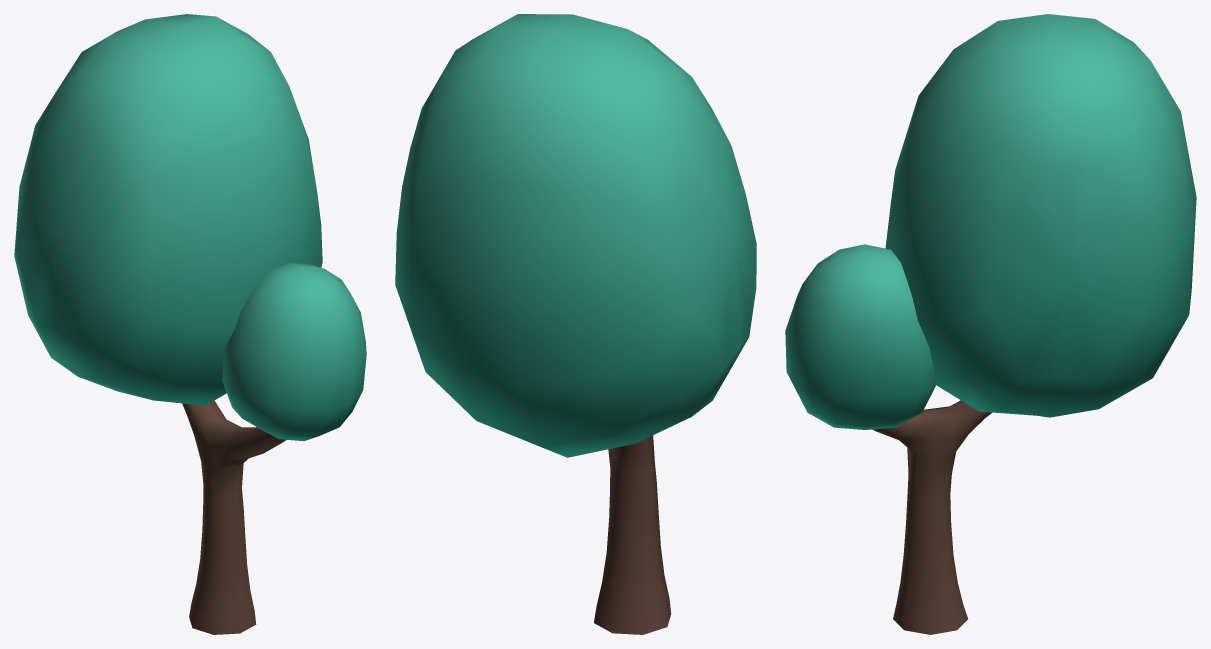
File: Tree3.fbx
3 renders of one model, left to right at view 1: azimuth 30°, elevation 25°; view 2: azimuth 150°, elevation 25°; view 3: azimuth 270°, elevation 25°, orthographic. The views are drawn at different scales.
Visible parts, largest first — view 1: polySurface310, polySurface308, polySurface309; view 2: polySurface310, polySurface309; view 3: polySurface310, polySurface308, polySurface309.
Boxes of the visible parts, x1,y1,x2,y2 form: polySurface310: [14, 14, 322, 405]; polySurface308: [222, 262, 366, 441]; polySurface309: [182, 400, 285, 634]; polySurface310: [395, 14, 756, 457]; polySurface309: [594, 435, 671, 634]; polySurface310: [885, 14, 1196, 417]; polySurface308: [785, 244, 936, 429]; polySurface309: [873, 400, 991, 634].
Bounding box in the file's own units: 384 × 768 × 483.
